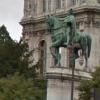Statue: (30, 9, 94, 68)
